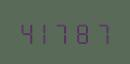eight: (75, 20, 93, 44)
four: (18, 20, 36, 44)
one: (37, 20, 55, 44)
seven: (56, 20, 74, 44), (94, 20, 112, 44)
